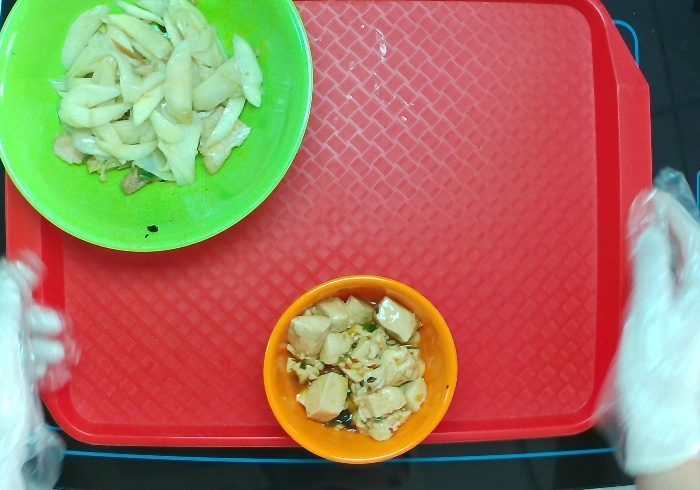YKMZ-Ju_Se_Yuan_Wan: (261, 274, 460, 465)
YKMZ-Lv_Se_Tang_Wan: (1, 1, 314, 258)
